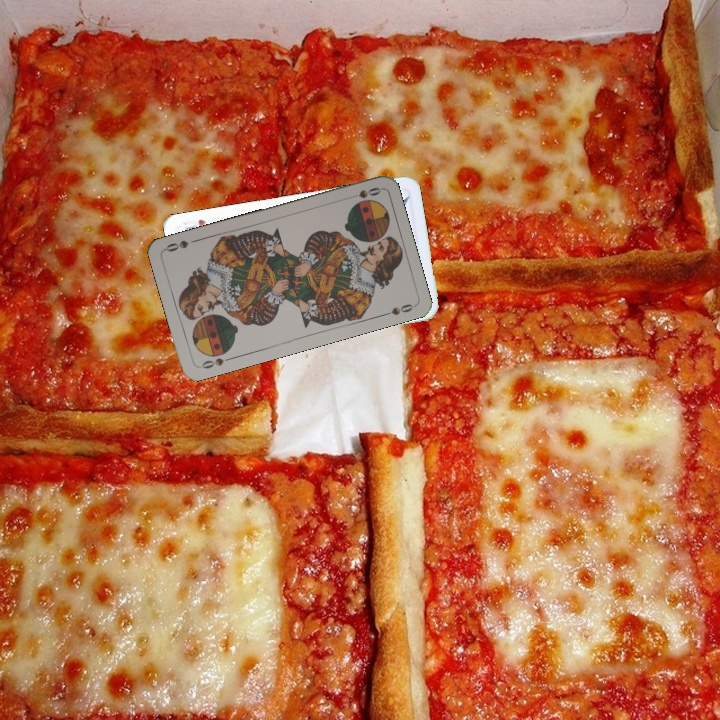SO: (343, 183, 383, 202), (195, 353, 235, 371)
